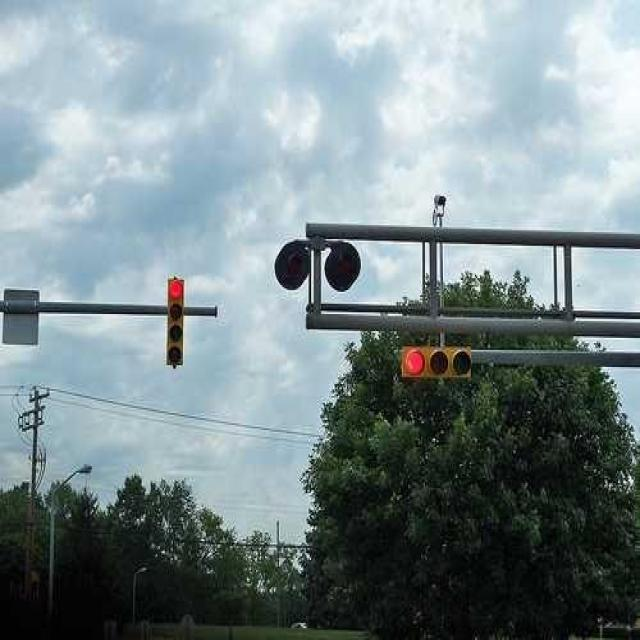Traffic Light -Red-: (400, 342, 474, 384), (167, 276, 184, 364)
